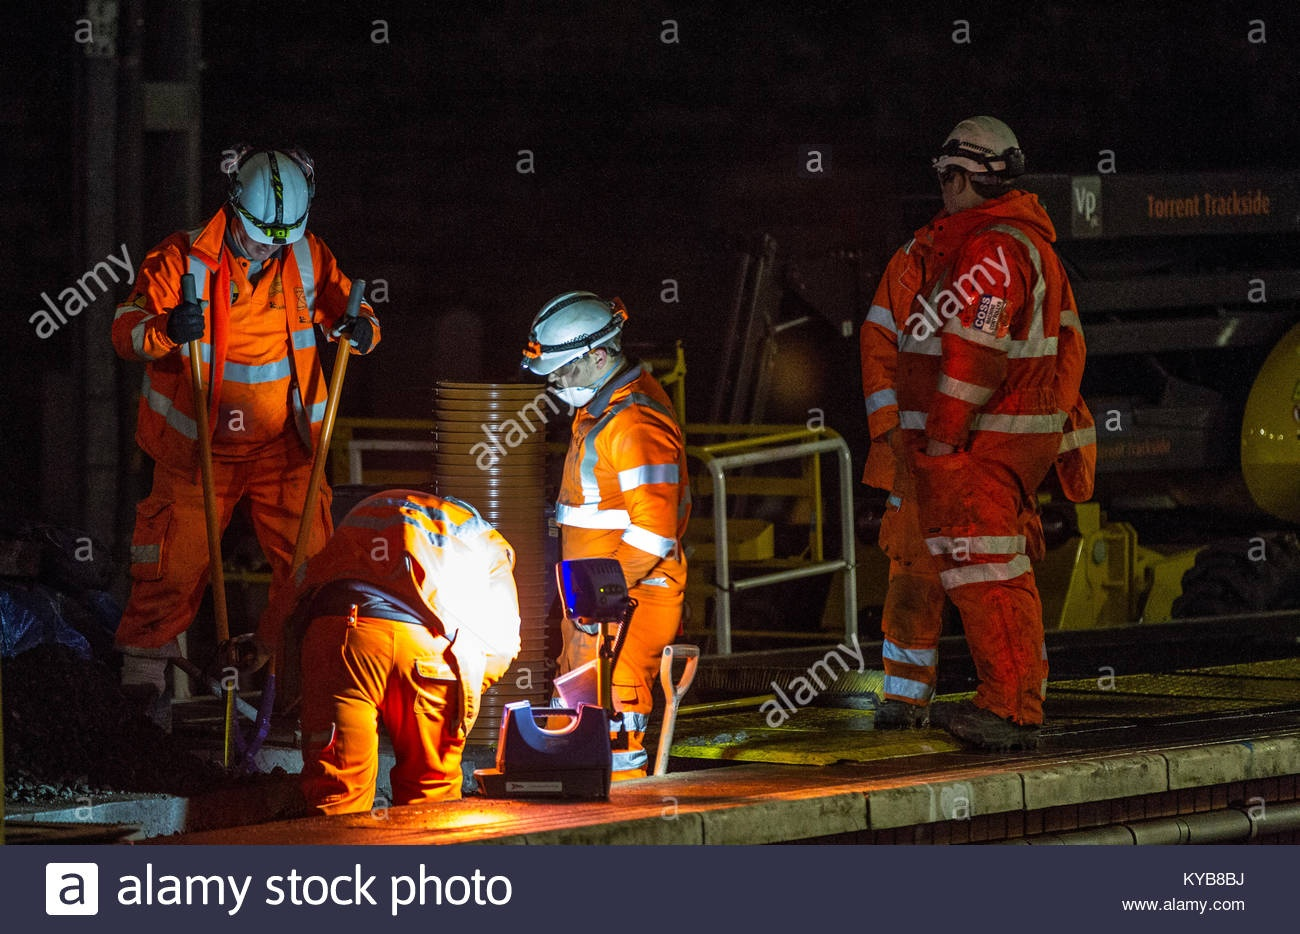blue: (524, 291, 626, 405), (229, 148, 311, 255)
white: (935, 112, 1030, 208)
